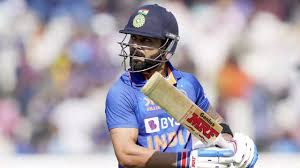bottom left: (151, 69, 165, 79)
bottom right: (137, 86, 153, 98)
top left: (218, 120, 228, 133)
top right: (202, 138, 212, 150)
